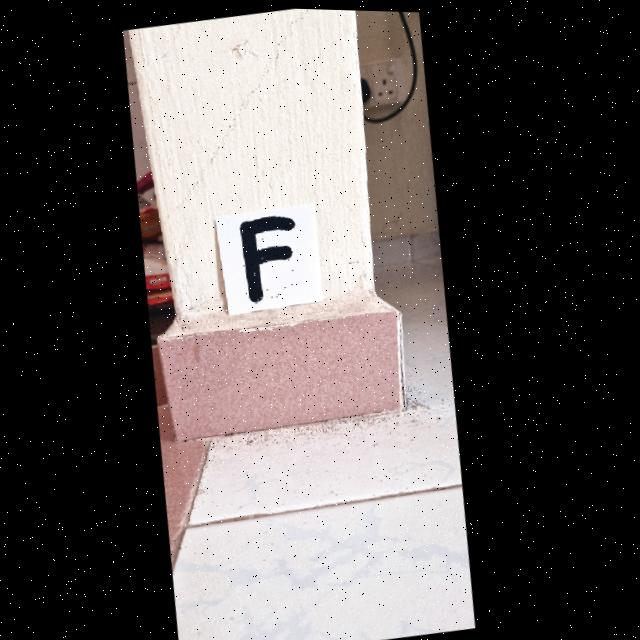F: (243, 215, 296, 301)
